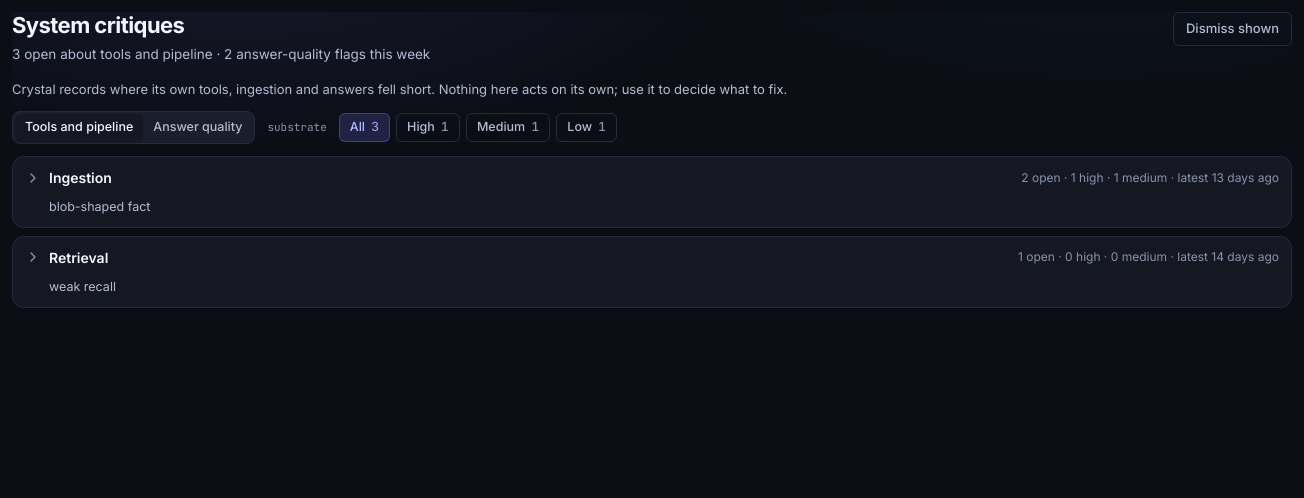
Test case: Critiques (Refine PR 13, 5.10) › groups by subsystem with exact counts, filters by severity, and dismisses with Undo
Expected: the text "3 open about tools and pipeline · 2 answer-quality flags this week" is shown, [12,44,430,64]
Expected: the element named "Stream" is shown, [12,111,255,144]
Click the button "Low 1".
click(587, 128)  # box [556,113,617,142]
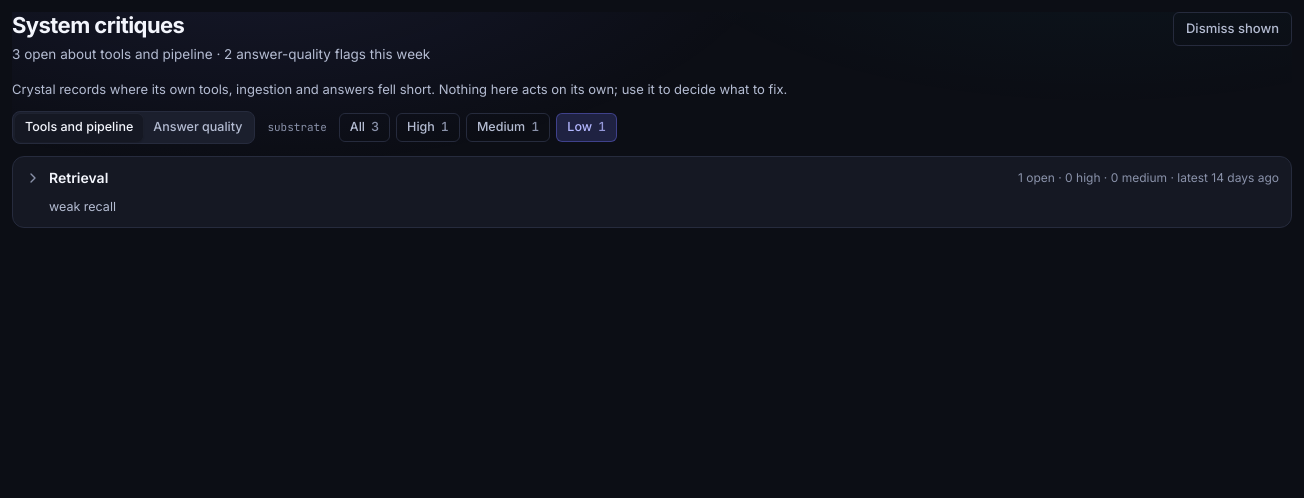
Click the button "All 3".
click(364, 128)  # box [339,113,390,142]
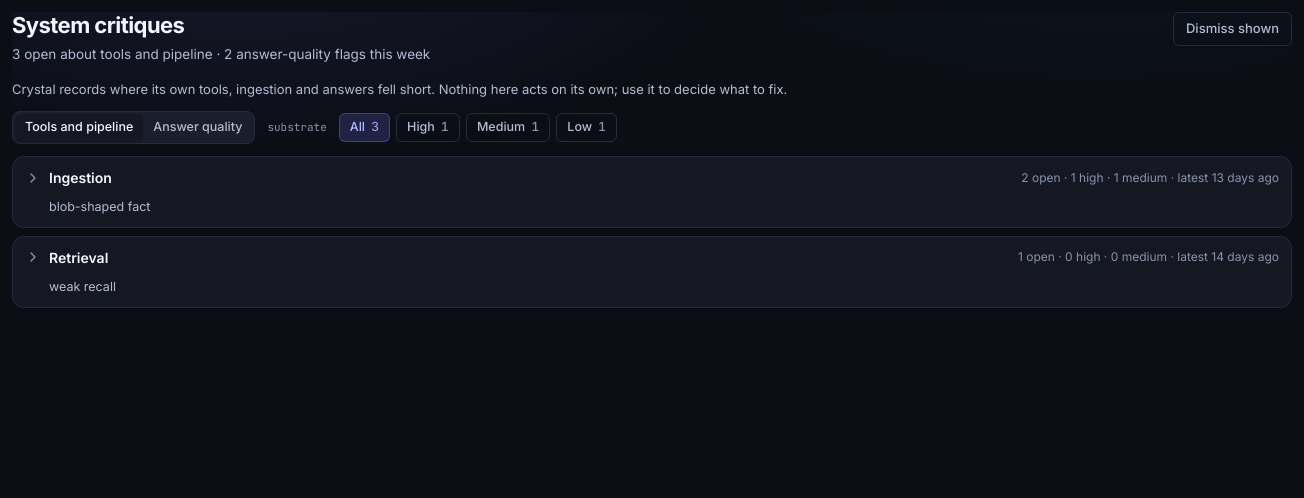
Click the button "Ingestion 2 open · 1 high · 1 medium · latest 13 days ago".
click(80, 178)  # box [13,157,1291,198]
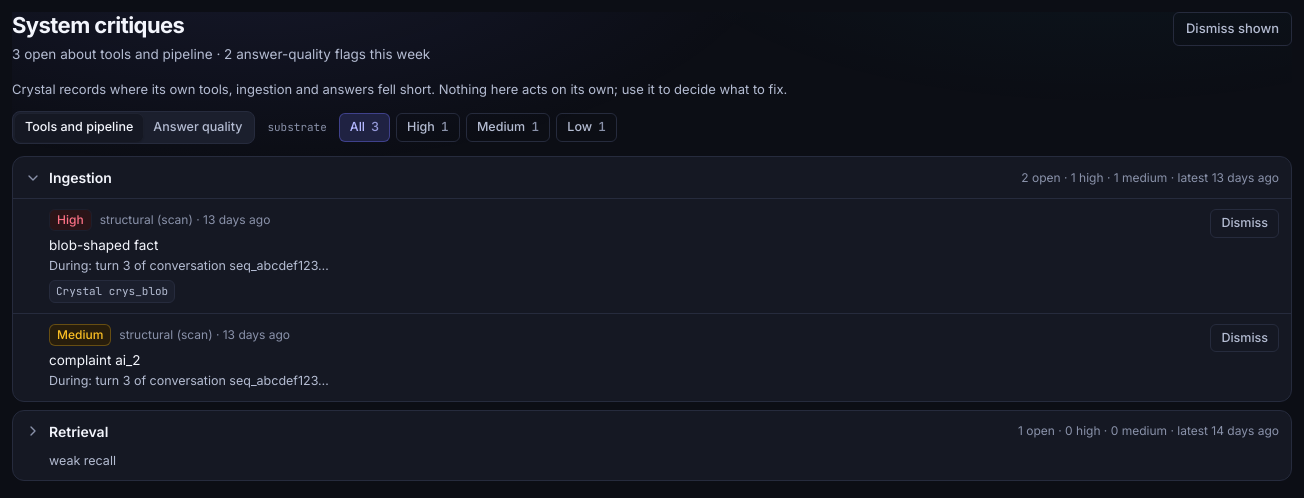
Result: the 1st text "structural (scan) · 13 days ago" is shown at [100,211,270,229]
Result: the text "During: turn 3 of conversation seq_abcdef123…" below "blob-shaped fact" is shown at [49,258,329,273]
Click the 1st button "Dismiss".
click(1245, 223)  # box [1210,209,1279,238]
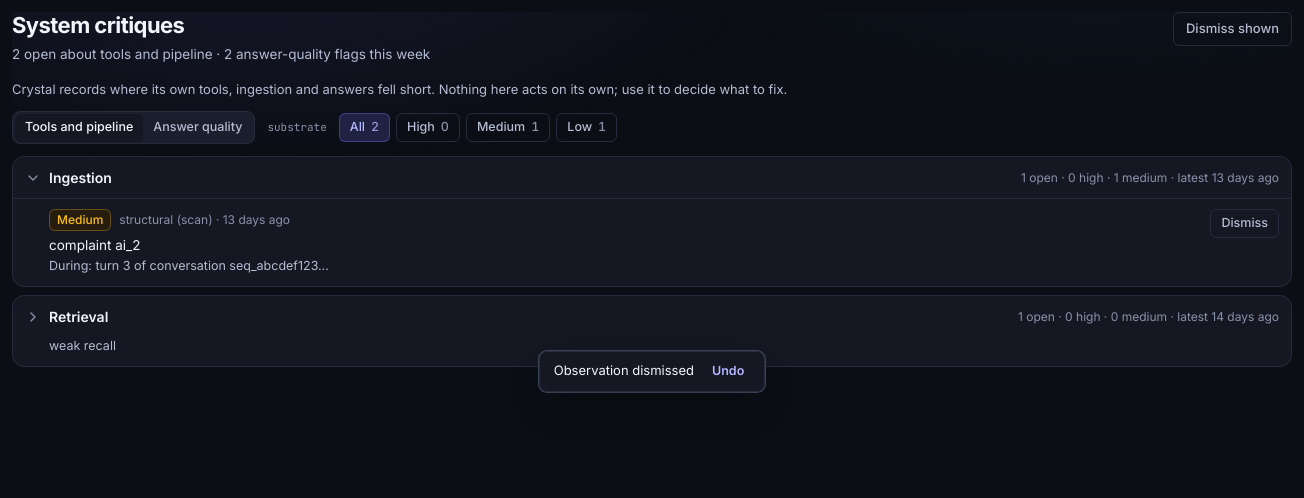
Result: the text "blob-shaped fact" is gone
Result: the text "Observation dismissed" is shown at [554,361,694,381]
Click the button "Undo".
click(728, 371)  # box [706,360,750,383]
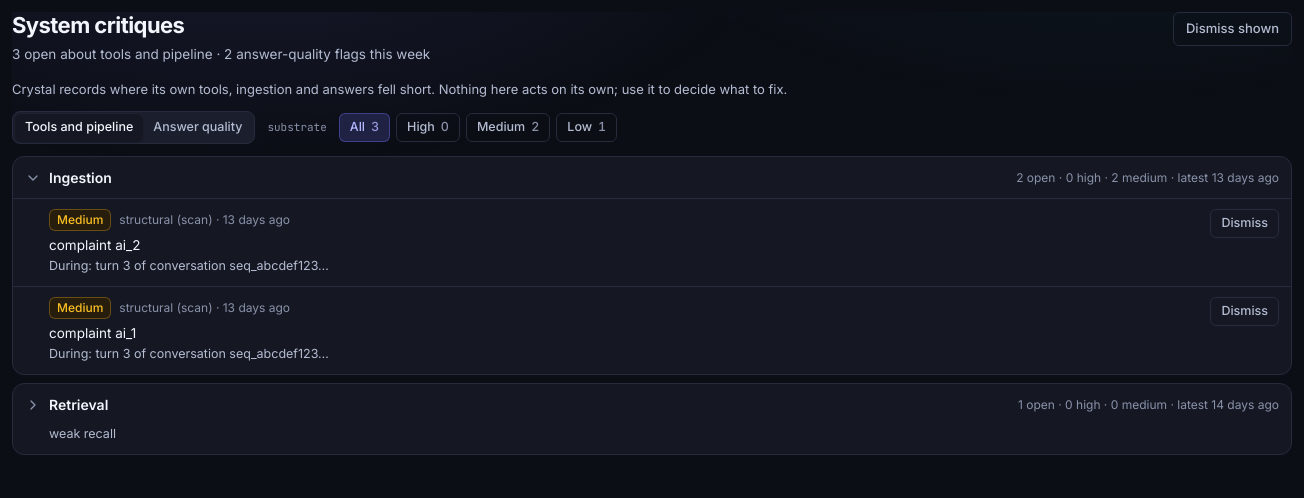
Result: the text "3 open about tools and pipeline · 2 answer-quality flags this week" is shown at [12,44,430,64]
